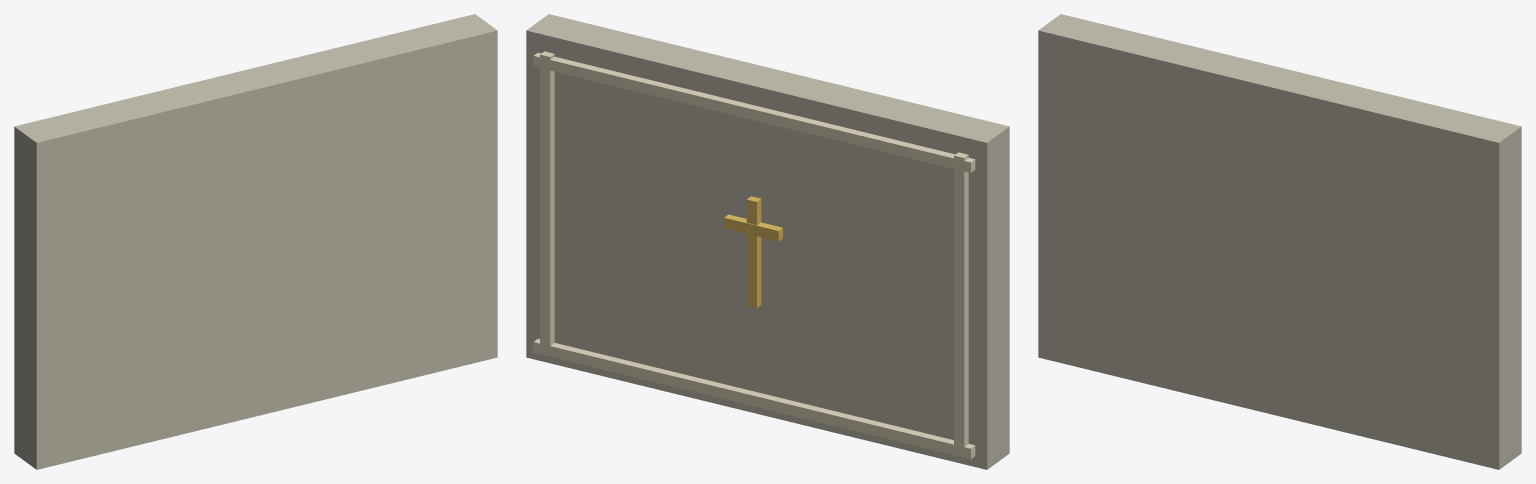
File: cavern_exit_door.glb
3 views of the same model, side by side, from view 1: azimuth 30°, elevation 25°; view 2: azimuth 150°, elevation 25°; view 3: azimuth 330°, elevation 25° (orthographic).
Visible parts, largest first — view 1: Sliding stone door; view 2: Sliding stone door; view 3: Sliding stone door.
Part boxes in pixels (left/top/right/bottom): Sliding stone door: left=14, top=14, right=497, bottom=469; Sliding stone door: left=526, top=14, right=1009, bottom=469; Sliding stone door: left=1038, top=14, right=1521, bottom=469.
Bounding box in the file's own units: 5.9 × 4 × 0.62.
